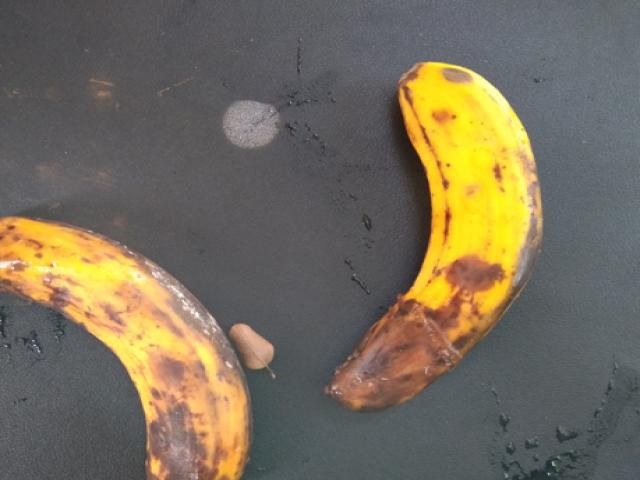rotten: (337, 42, 576, 420), (0, 204, 279, 479)
